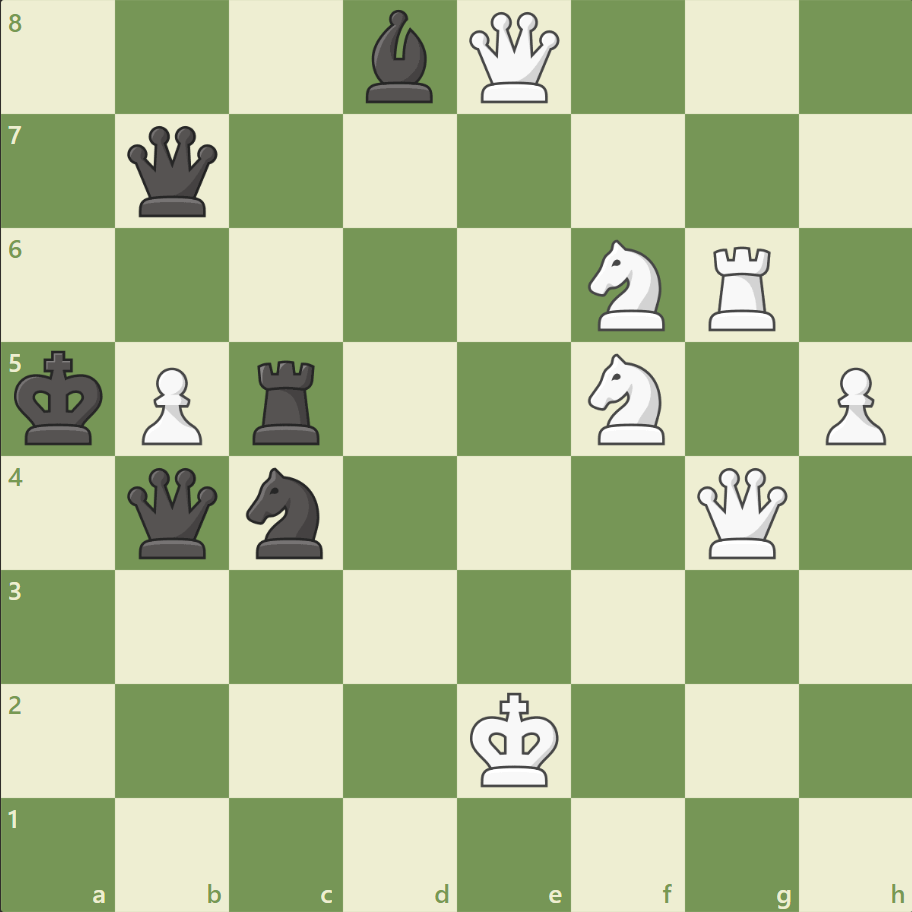K: (465, 685, 565, 793)
N: (579, 234, 676, 337), (579, 348, 676, 450)
P: (133, 359, 208, 450), (815, 359, 889, 450)
Q: (464, 9, 563, 108), (691, 463, 790, 562)
R: (700, 239, 783, 336)
b: (358, 6, 442, 109)
k: (11, 344, 111, 452)
n: (238, 461, 335, 564)
q: (124, 122, 223, 222), (124, 463, 223, 562)
r: (246, 352, 329, 449)
